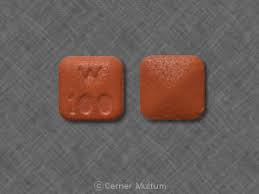Square: (58, 55, 126, 123), (138, 54, 206, 122)
